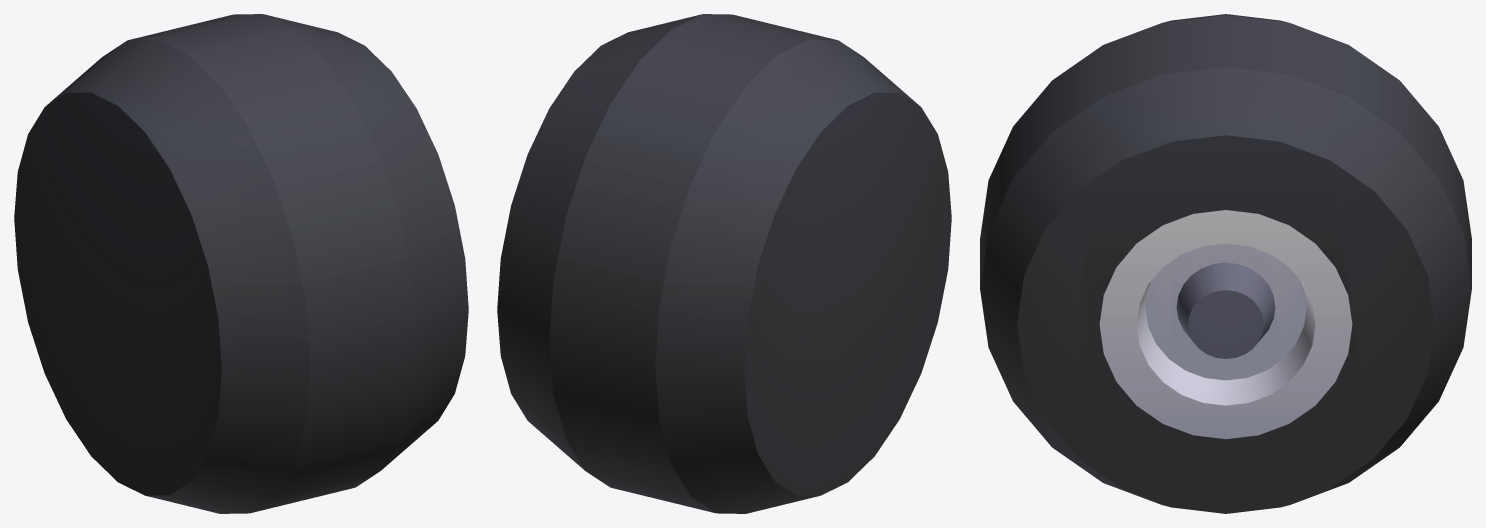
The model's file is wheel-truck.glb.
3 views of the same model, side by side, from view 1: azimuth 30°, elevation 25°; view 2: azimuth 150°, elevation 25°; view 3: azimuth 270°, elevation 25° (orthographic).
Parts seen in each view (by area): view 1: wheel-truck; view 2: wheel-truck; view 3: wheel-truck.
Boxes of the visible parts, x1,y1,x2,y2 form: wheel-truck: (14,14,468,513); wheel-truck: (497,14,951,513); wheel-truck: (980,14,1471,513).
Size of the model in its own units: 0.35 by 0.6 by 0.6.
Materials: 1 (1 with a texture image).
